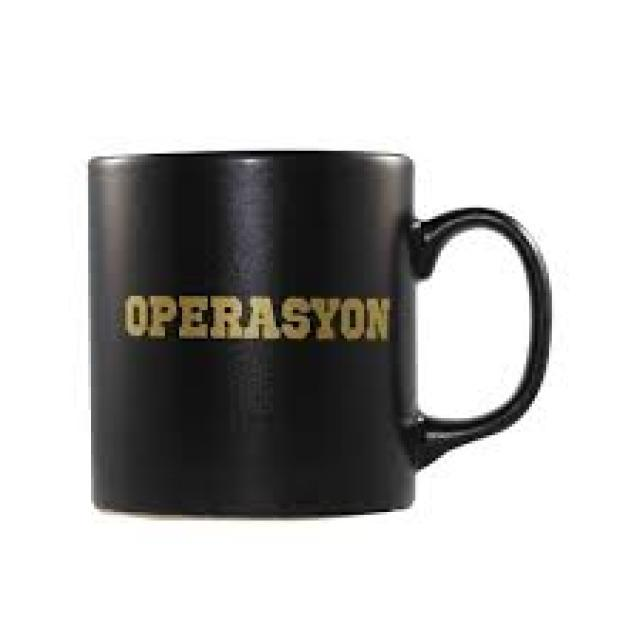taza: (86, 148, 553, 522)
